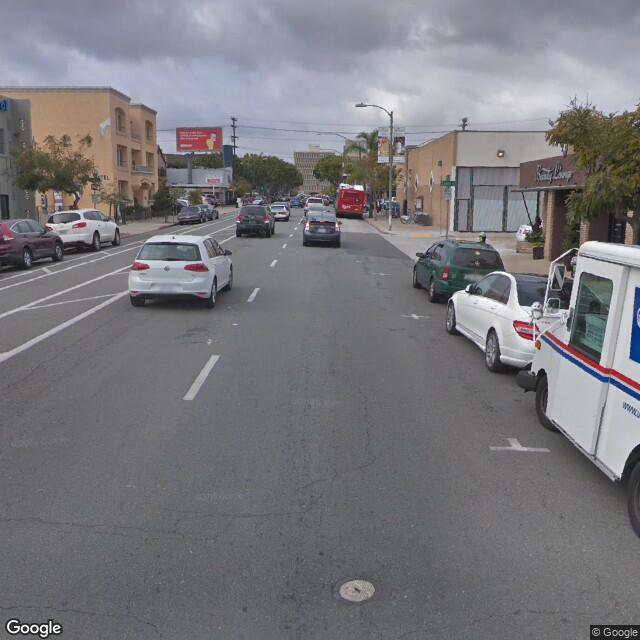road line: (168, 328, 240, 406)
